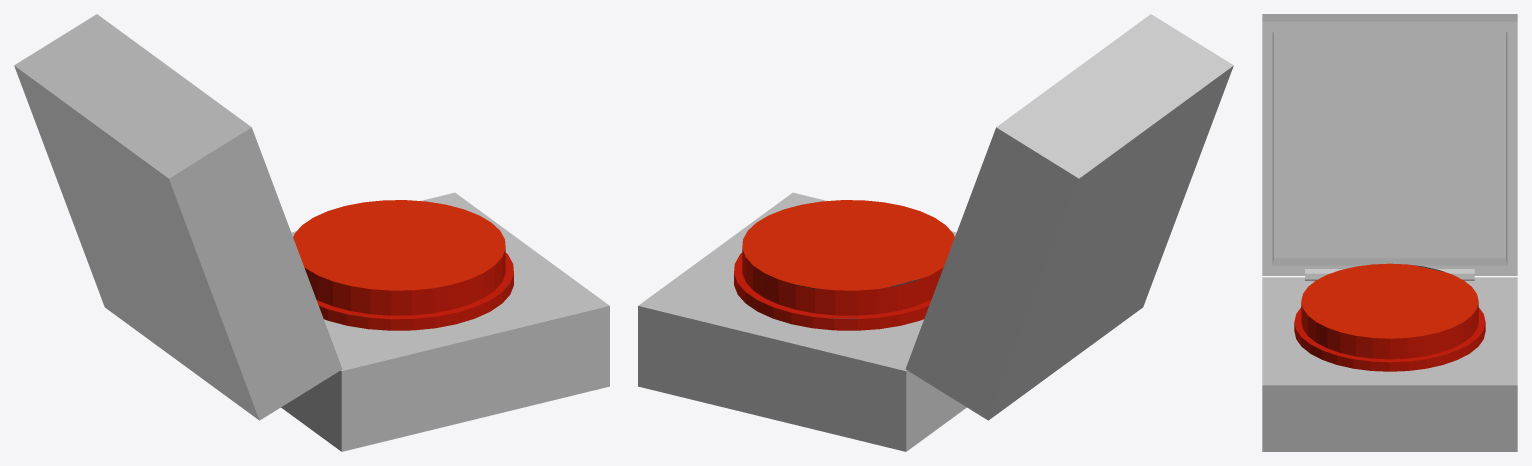
Rendered from pressedbutton.fbx.
3 views of the same model, side by side, from view 1: azimuth 30°, elevation 25°; view 2: azimuth 150°, elevation 25°; view 3: azimuth 270°, elevation 25° (orthographic). The views are drawn at different scales.
Visible parts, largest first — view 1: Cube.002; view 2: Cube.002; view 3: Cube.002.
Boxes of the visible parts, left/top/right/bottom form: Cube.002: left=14, top=14, right=609, bottom=451; Cube.002: left=638, top=14, right=1233, bottom=451; Cube.002: left=1262, top=14, right=1517, bottom=451.
Size of the model in its own units: 329 by 247 by 200.
